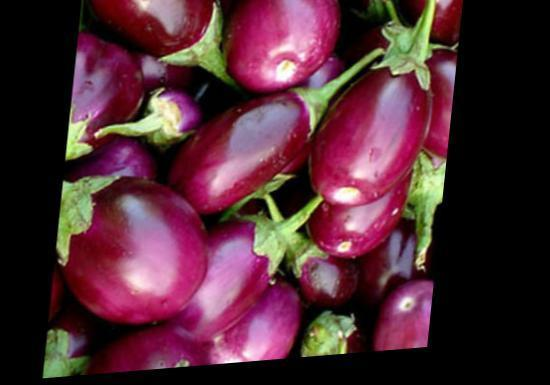eggplant: (52, 0, 466, 379), (296, 8, 464, 251), (56, 162, 218, 332), (184, 73, 342, 231), (75, 0, 236, 96), (85, 332, 234, 376)
